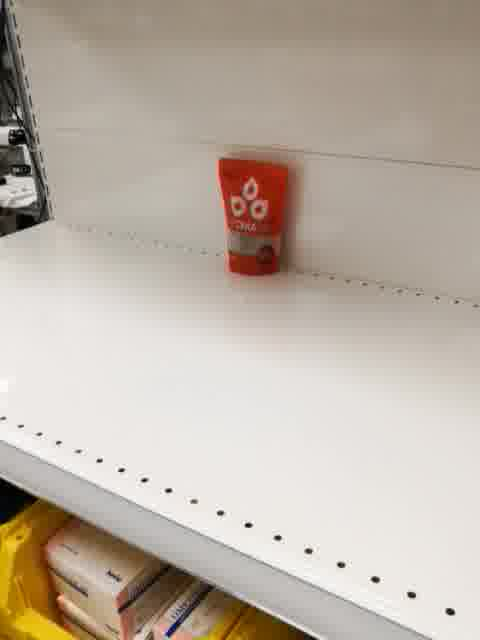whitechia: (214, 154, 294, 278)
